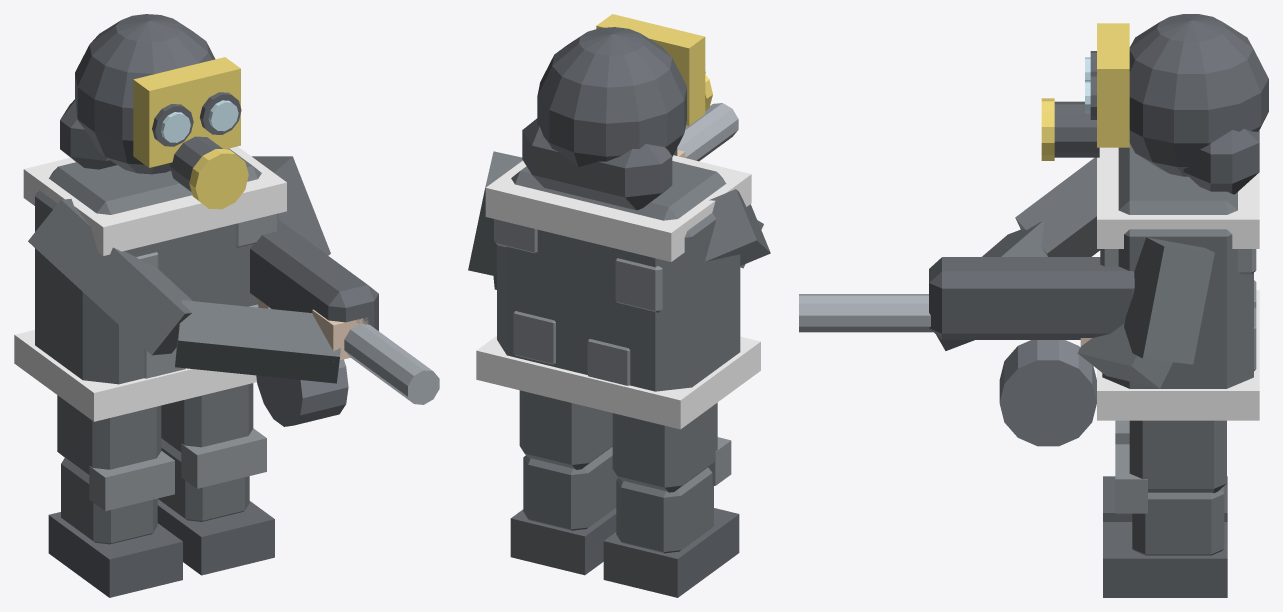
Rendered from breaker@toxico.glb.
The picture shows the model from 3 angles, left to right: view 1: azimuth 30°, elevation 25°; view 2: azimuth 150°, elevation 25°; view 3: azimuth 270°, elevation 25°; orthographic projection. The views are drawn at different scales.
Parts seen in each view (by area): view 1: main, shinl, shinr, legl, legr; view 2: main, shinl, shinr, legl, legr; view 3: main, shinr, legr, shinl.
Boxes of the visible parts, x1,y1,x2,y2 form: main: [14, 14, 439, 426]; shinl: [48, 451, 182, 597]; shinr: [157, 428, 274, 575]; legl: [57, 395, 161, 475]; legr: [161, 383, 253, 452]; main: [468, 14, 770, 429]; shinl: [603, 437, 739, 597]; shinr: [510, 447, 618, 575]; legl: [612, 402, 717, 492]; legr: [519, 390, 612, 469]; main: [799, 14, 1268, 446]; shinr: [1103, 444, 1227, 597]; legr: [1129, 420, 1226, 493]; shinl: [1103, 420, 1227, 521].
Bounding box in the file's own units: 0.3161 × 0.5462 × 0.4336.
